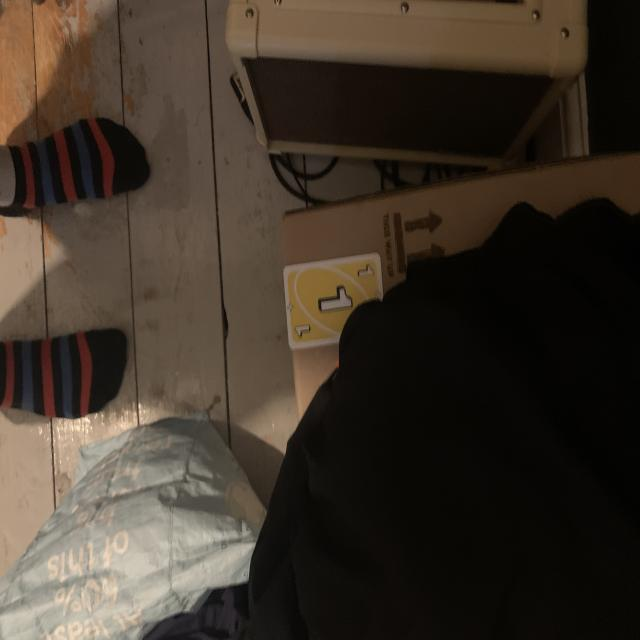lyellow-1: (353, 262, 376, 283)
